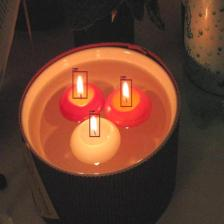fire: (72, 71, 88, 99), (120, 79, 132, 107), (89, 114, 100, 137)
